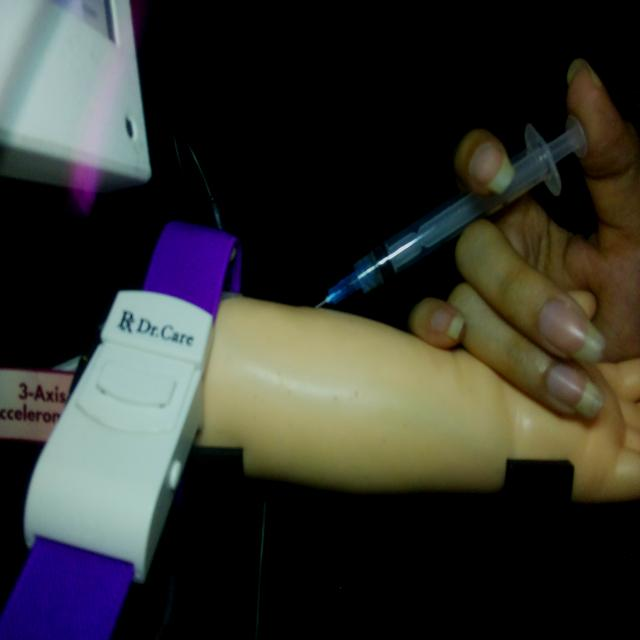22 degrees: (313, 111, 588, 311)
